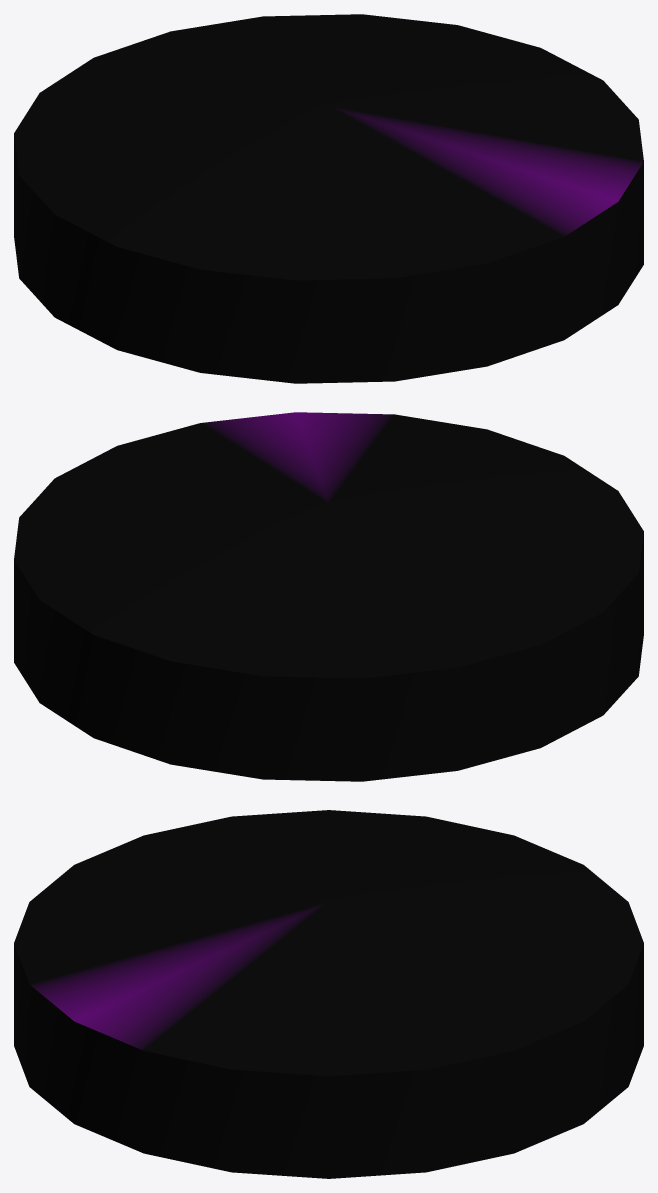
The model's file is ASE_FX_SpinFusor_Disk.gltf.
The picture shows the model from 3 angles, top to bottom: view 1: azimuth 30°, elevation 25°; view 2: azimuth 150°, elevation 25°; view 3: azimuth 270°, elevation 25°; orthographic projection.
Parts seen in each view (by area): view 1: ASE_FX_SpinFusor_Disk; view 2: ASE_FX_SpinFusor_Disk; view 3: ASE_FX_SpinFusor_Disk.
Part boxes in pixels (bbox=[...]): ASE_FX_SpinFusor_Disk: bbox=[14, 14, 643, 383]; ASE_FX_SpinFusor_Disk: bbox=[14, 412, 643, 781]; ASE_FX_SpinFusor_Disk: bbox=[14, 810, 643, 1178].
Bounding box in the file's own units: 0.0632 × 0.0203 × 0.0632.
